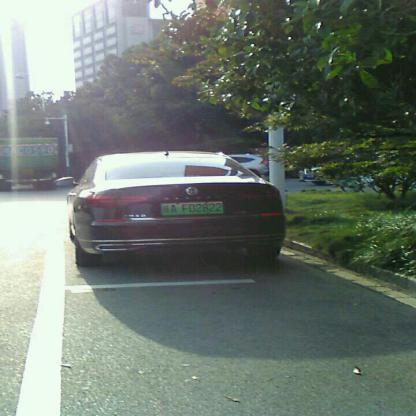lp: (159, 202, 223, 214)
